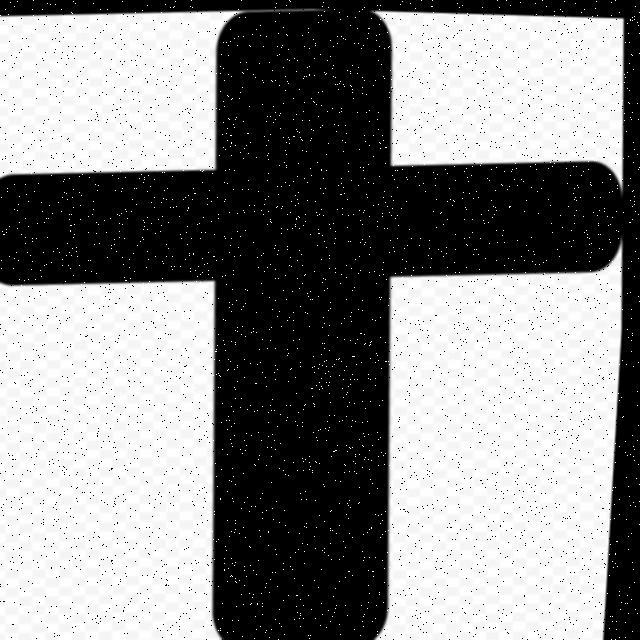cross: (0, 17, 625, 640)
